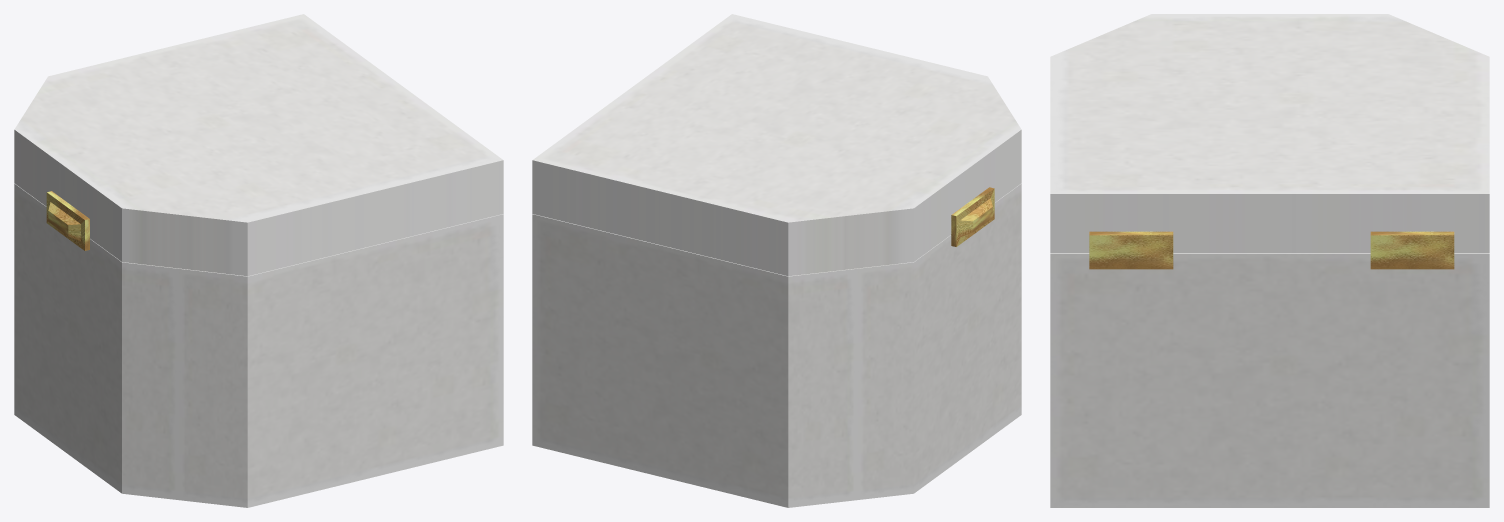
File: livingroomBox3.FBX
3 renders of one model, left to right at view 1: azimuth 30°, elevation 25°; view 2: azimuth 150°, elevation 25°; view 3: azimuth 270°, elevation 25°, orthographic. The views are drawn at different scales.
Parts seen in each view (by area): view 1: Box001, Object001, Box004; view 2: Box001, Object001, Box004; view 3: Box001, Object001, Box002, Box003.
Boxes of the visible parts, <box> form: Box001: <box>14,183,503,507</box>; Object001: <box>14,14,503,276</box>; Box004: <box>46,191,89,250</box>; Box001: <box>532,183,1021,507</box>; Object001: <box>532,14,1021,276</box>; Box004: <box>951,187,994,246</box>; Box001: <box>1050,253,1489,507</box>; Object001: <box>1050,14,1489,252</box>; Box002: <box>1089,231,1173,269</box>; Box003: <box>1370,231,1454,269</box>.
Bounding box in the file's own units: 678 × 520 × 660.
2 materials, 2 textured.
